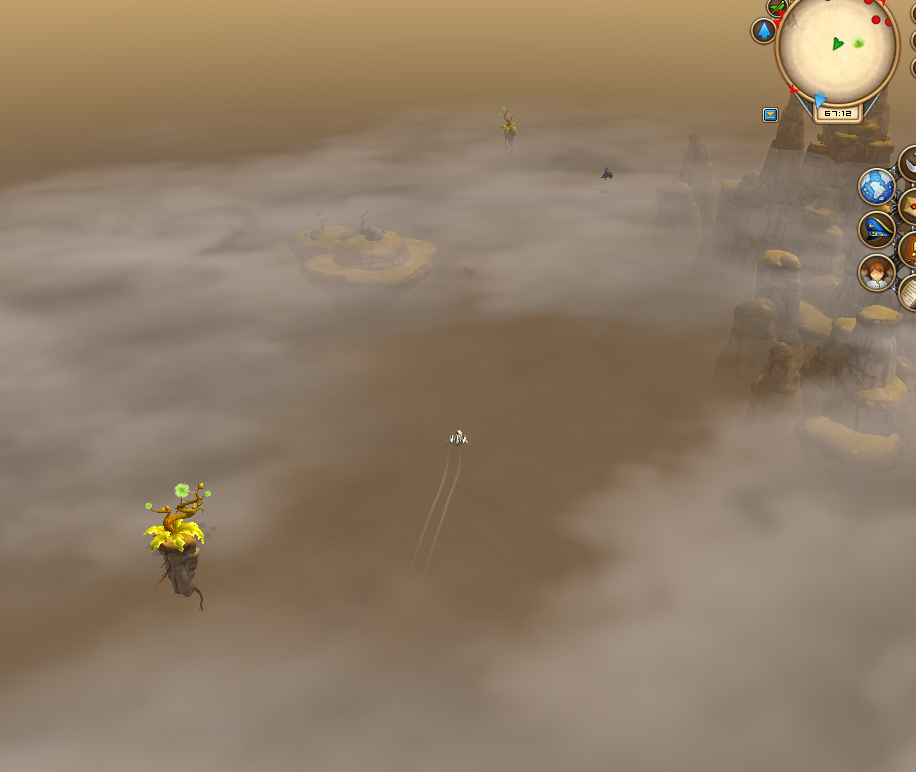dandelion-full: (140, 477, 217, 614), (493, 101, 520, 152)
